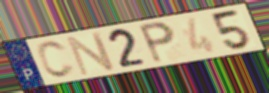2: (106, 26, 153, 72)
4: (187, 15, 217, 55)
5: (208, 6, 253, 52)
C: (35, 40, 78, 80)
N: (65, 30, 118, 78)
P: (136, 20, 178, 66)
